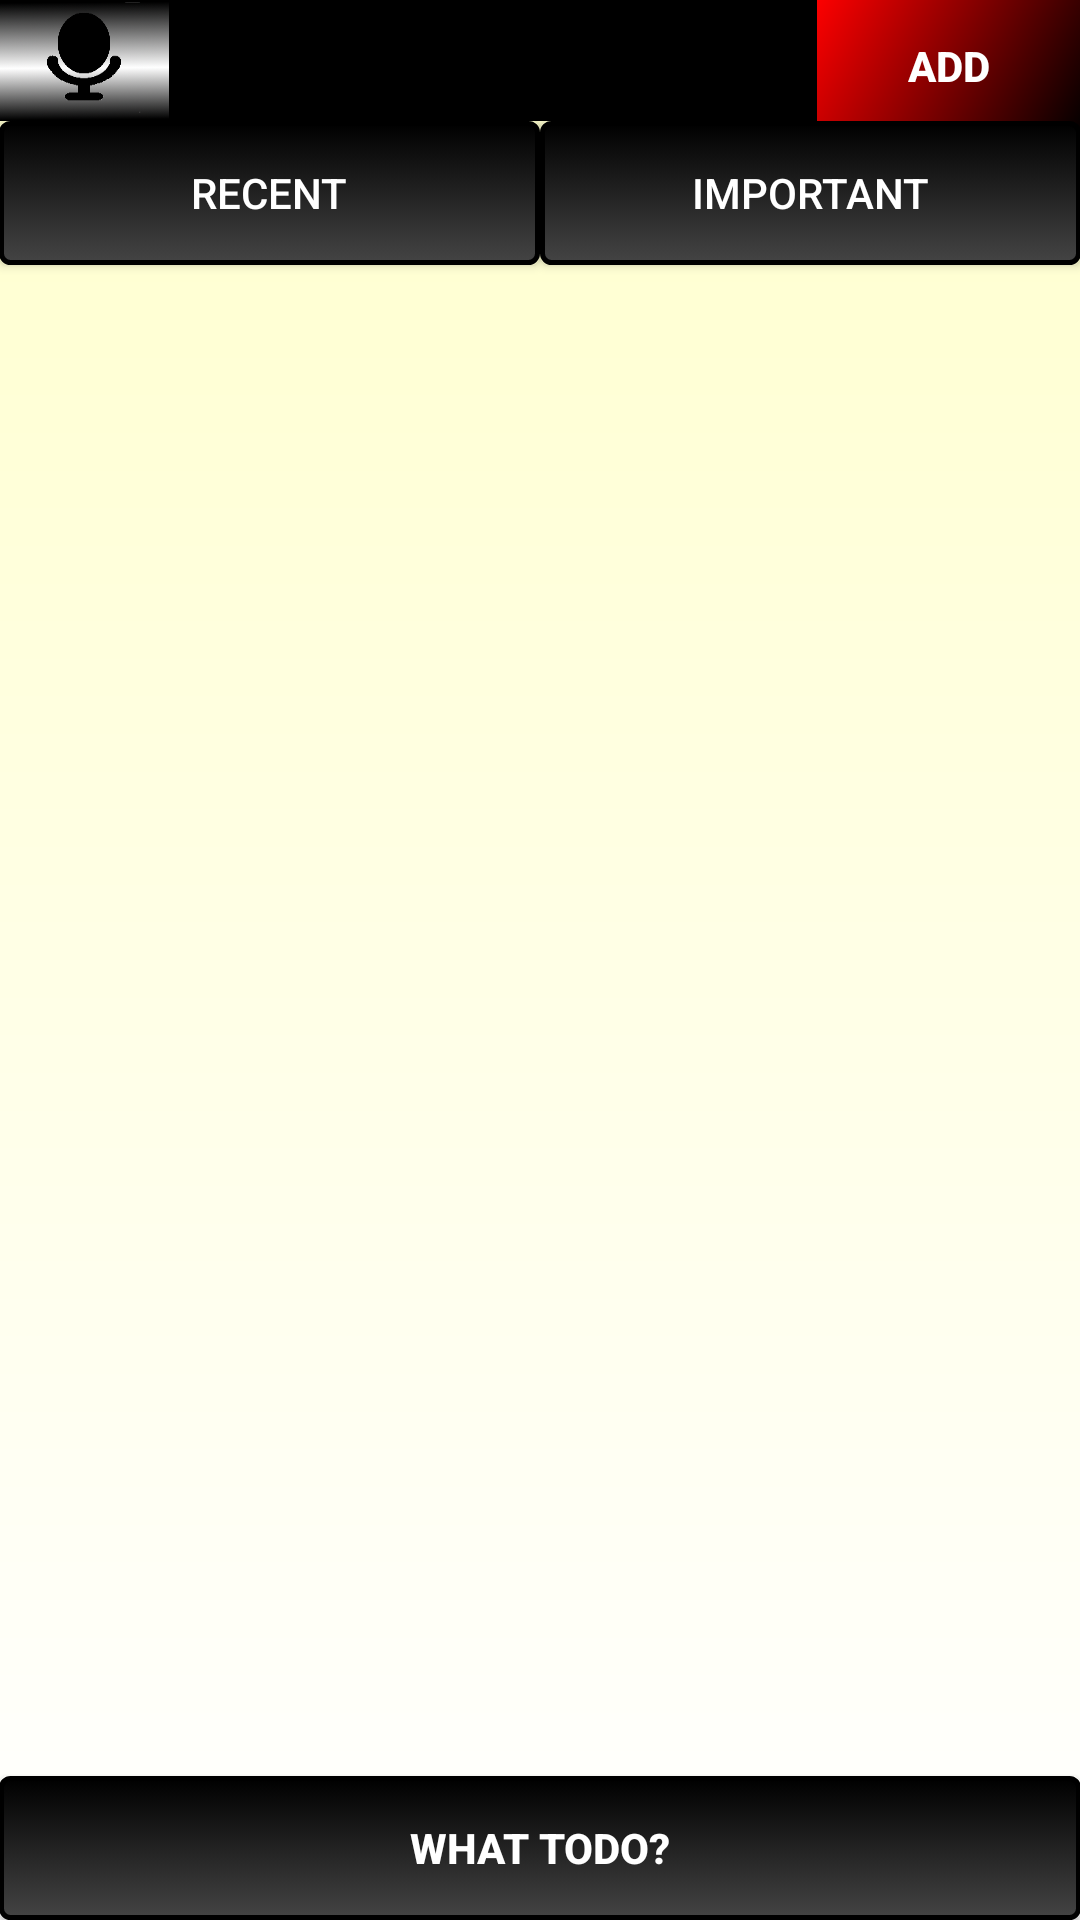

Locate icon controls on the screen. Image size 1080*1920, boxes as (x1, y1, x2, y2).
stt mic: (0, 2, 169, 115)
